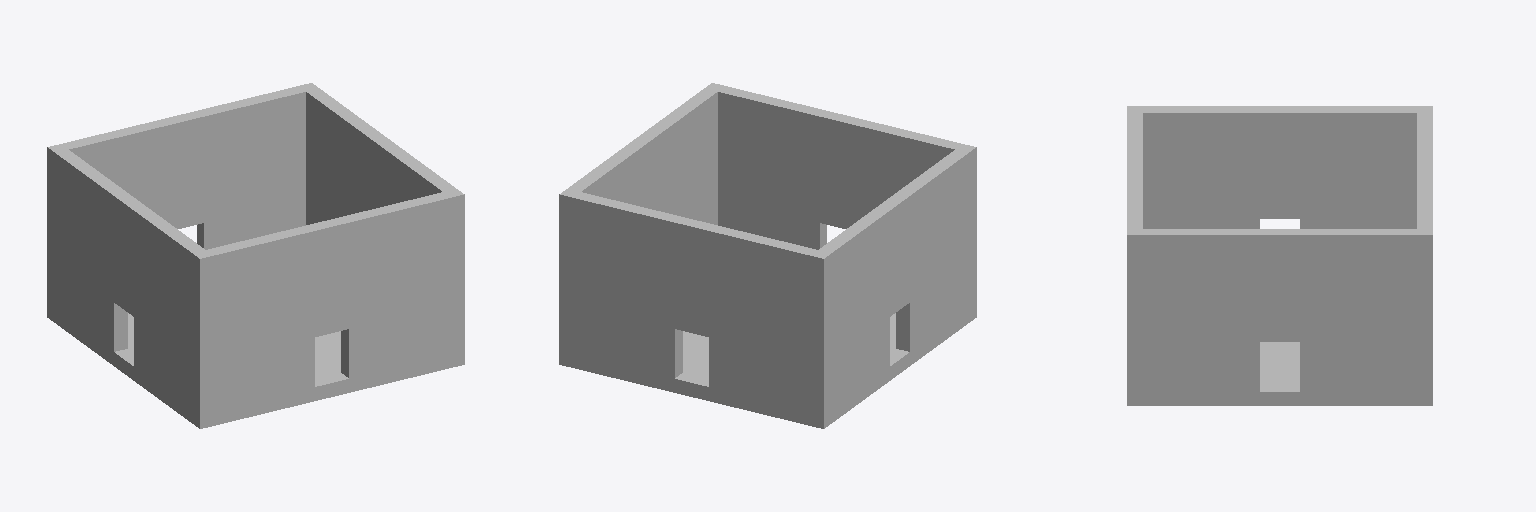
Rendered from SpawnRoom.obj.
The picture shows the model from 3 angles: view 1: azimuth 30°, elevation 25°; view 2: azimuth 150°, elevation 25°; view 3: azimuth 270°, elevation 25°; orthographic projection.
Parts seen in each view (by area): view 1: Untitled; view 2: Untitled; view 3: Untitled.
Part boxes in pixels (x1,y1,x2,y2): Untitled: (47, 83, 464, 428); Untitled: (559, 83, 976, 428); Untitled: (1127, 106, 1432, 405).
Size of the model in its own units: 3.9 by 2.4 by 3.9.